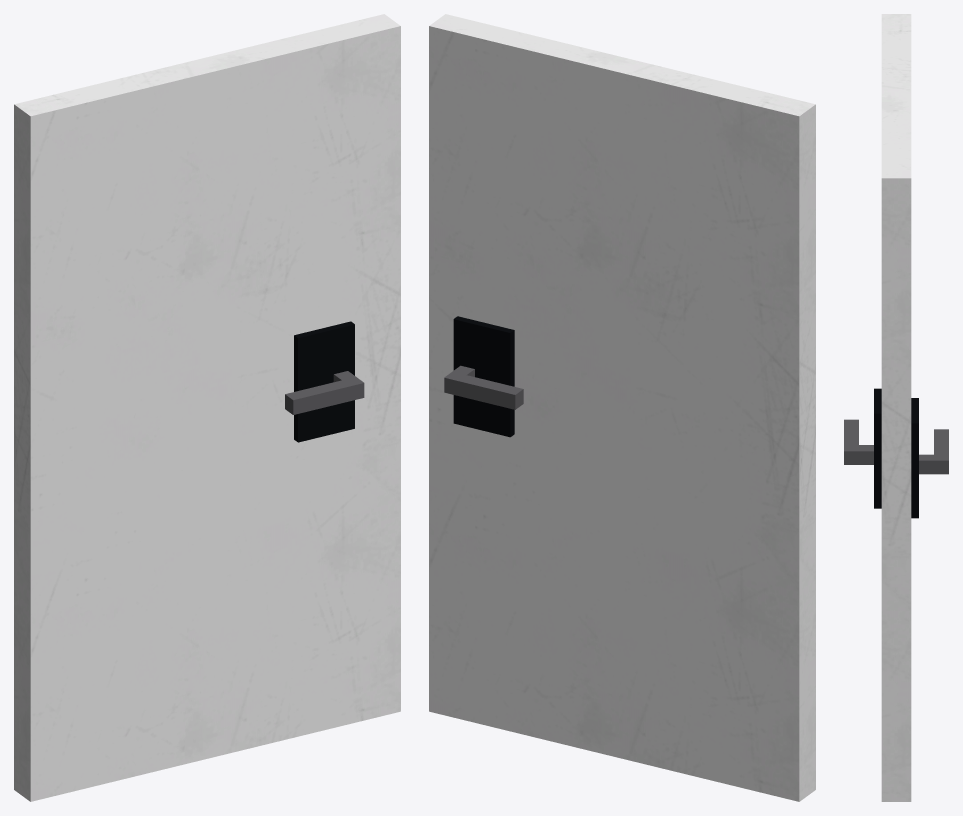
Rendered from Door.obj.
3 renders of one model, left to right at view 1: azimuth 30°, elevation 25°; view 2: azimuth 150°, elevation 25°; view 3: azimuth 270°, elevation 25°, orthographic. The views are drawn at different scales.
Visible parts, largest first — view 1: Wall1, Part2, Part1; view 2: Wall1, Part6, Part5; view 3: Wall1, Part2, Part6, Part1, Part5, Part4, Part3.
Part boxes in pixels (box(x1,y1,x2,y2)): Wall1: box(14, 14, 400, 801); Part2: box(294, 321, 354, 442); Part1: box(285, 377, 364, 414); Wall1: box(429, 14, 815, 801); Part6: box(453, 316, 514, 437); Part5: box(444, 371, 523, 409); Wall1: box(881, 14, 911, 801); Part2: box(874, 388, 881, 508); Part6: box(911, 398, 918, 518); Part1: box(844, 419, 858, 464); Part5: box(934, 429, 948, 474); Part4: box(919, 454, 933, 474); Part3: box(859, 445, 873, 464).
Size of the model in its own units: 6.5 by 11.5 by 1.75.
Materials: 3 (1 with a texture image).
